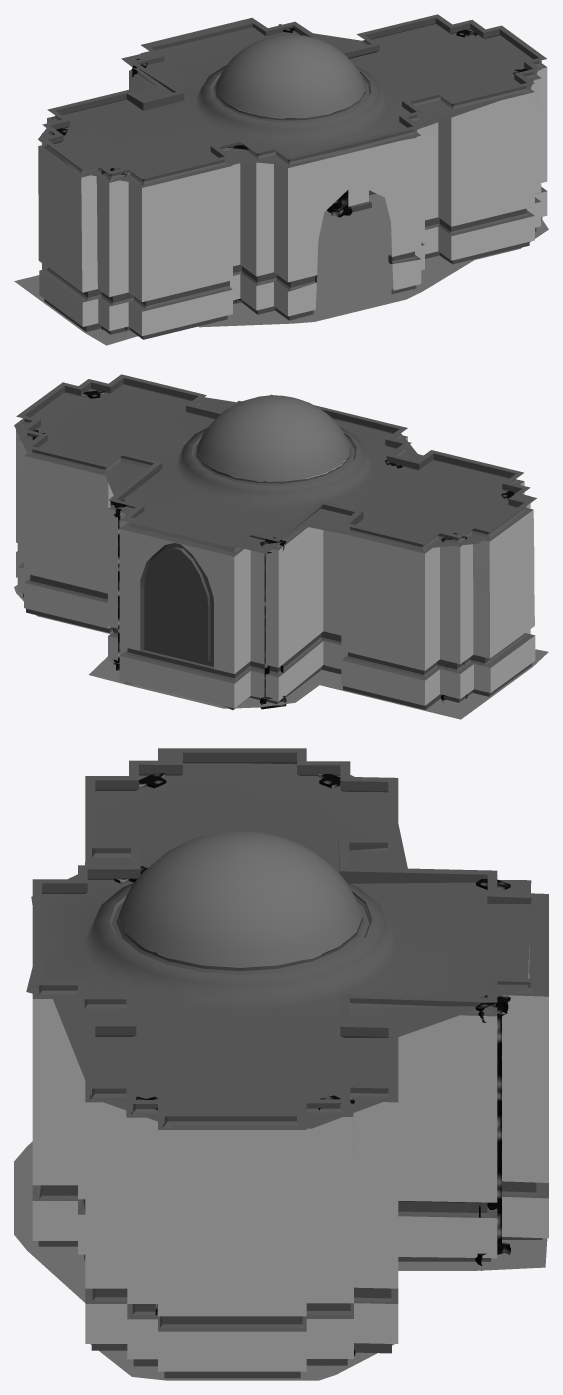
File: Mausoleum Interior final.fbx
The picture shows the model from 3 angles, top to bottom: view 1: azimuth 30°, elevation 25°; view 2: azimuth 150°, elevation 25°; view 3: azimuth 270°, elevation 25°; orthographic projection. The views are drawn at different scales.
Visible parts, largest first — view 1: int1, roof, floor, dome, polySurface31; view 2: int1, roof, dome, floor, polySurface17, polySurface11; view 3: int1, roof, dome, floor, polySurface11.
Part boxes in pixels (x1,y1,x2,y2): int1: [38, 14, 547, 339]; roof: [38, 24, 541, 184]; floor: [14, 193, 548, 345]; dome: [216, 34, 365, 118]; polySurface31: [326, 107, 352, 217]; int1: [16, 374, 536, 709]; roof: [14, 384, 527, 553]; dome: [197, 395, 350, 481]; floor: [14, 585, 548, 719]; polySurface17: [260, 537, 286, 709]; polySurface11: [110, 500, 126, 670]; int1: [32, 748, 548, 1378]; roof: [26, 763, 531, 1129]; dome: [118, 830, 362, 967]; floor: [14, 1141, 547, 1380]; polySurface11: [475, 995, 510, 1270].
Bounding box in the file's own units: 2394 × 1087 × 1468.
